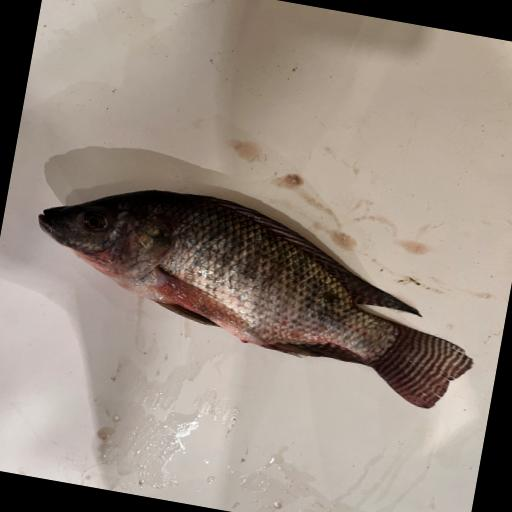Tilapia: (16, 167, 495, 416)
